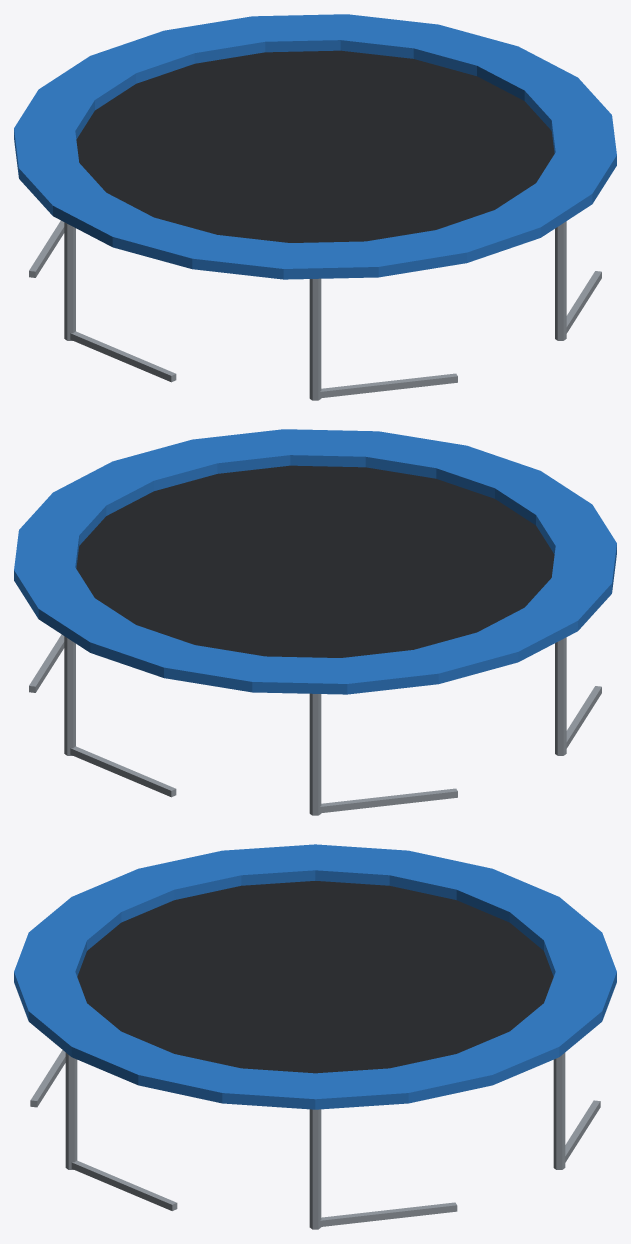
Rendered from prop_trampoline.glb.
3 renders of one model, top to bottom at view 1: azimuth 30°, elevation 25°; view 2: azimuth 150°, elevation 25°; view 3: azimuth 270°, elevation 25°, orthographic.
Visible parts, largest first — view 1: prop_trampoline; view 2: prop_trampoline; view 3: prop_trampoline.
Part boxes in pixels (box(x1,y1,x2,y2)): prop_trampoline: box(14, 14, 616, 400); prop_trampoline: box(14, 429, 616, 815); prop_trampoline: box(14, 844, 616, 1229).
Bounding box in the file's own units: 3.64 × 0.91 × 3.64.
